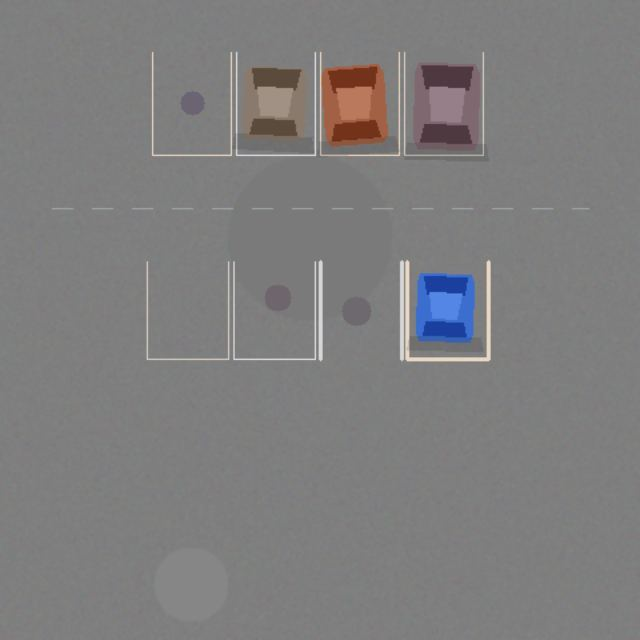space-empty: (152, 52, 231, 155), (233, 261, 315, 359), (147, 261, 228, 359), (320, 261, 401, 359)
space-occupied: (236, 52, 315, 155), (320, 52, 399, 155), (404, 52, 483, 155), (407, 261, 488, 359)
